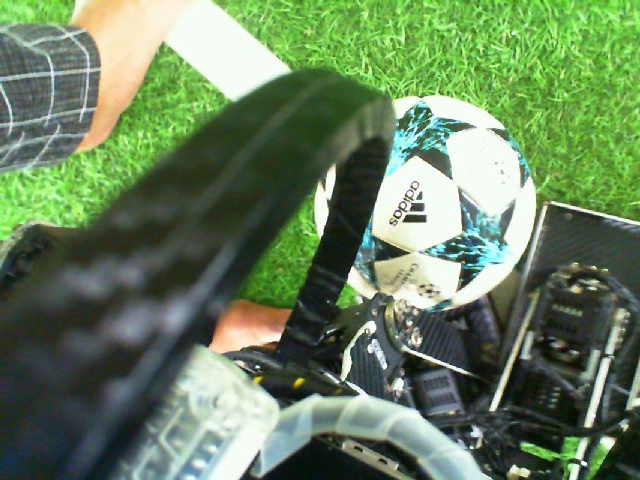ball: (341, 92, 538, 313)
